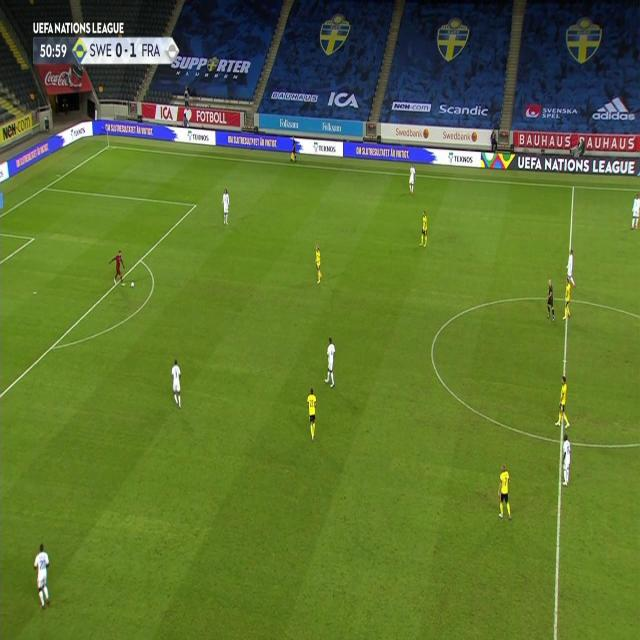ball: (130, 280, 134, 288)
player: (32, 542, 52, 608), (497, 462, 513, 521), (554, 376, 571, 430), (305, 386, 319, 442), (169, 357, 183, 410), (323, 336, 337, 388), (560, 429, 572, 487), (109, 248, 127, 286), (565, 246, 577, 287), (546, 276, 556, 322), (562, 277, 572, 319), (220, 187, 230, 226), (314, 242, 323, 284), (419, 209, 428, 247), (630, 195, 640, 229), (408, 162, 417, 194), (290, 135, 298, 163)
